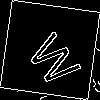W: (25, 25, 90, 91)
